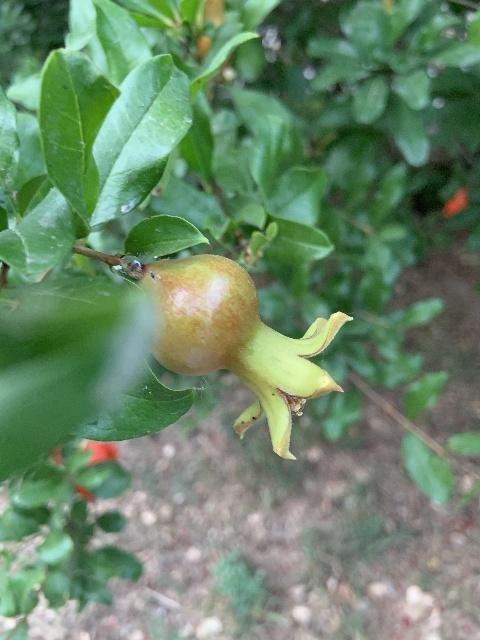early-fruit: (142, 254, 352, 459)
